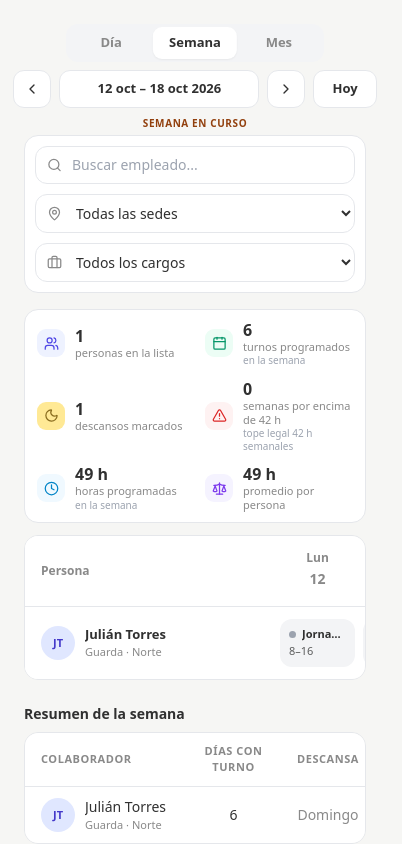
Scenario: qué dibuja la rejilla › y esa etiqueta cambia al moverse con las flechas
What coordinates should you click on to do the following:
click the button named "Semana siguiente"
I would click on:
 (286, 88)
Its box is [267,70,305,108].
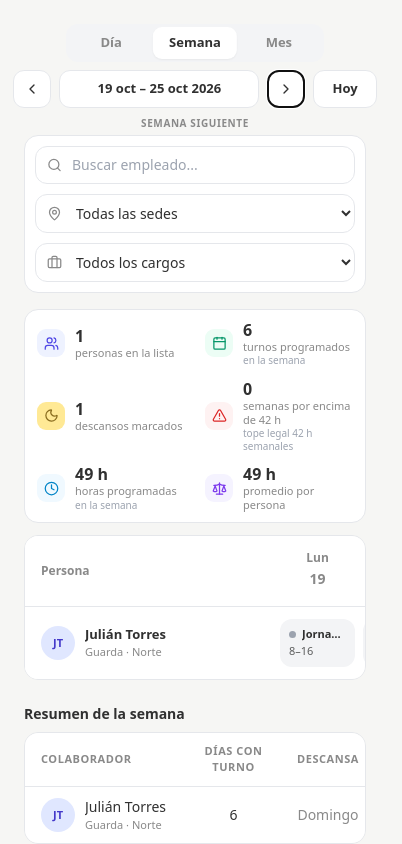
Expected: the text "Semana siguiente" is shown, [141,116,249,130]
Expected: the text "Semana en curso" is gone
